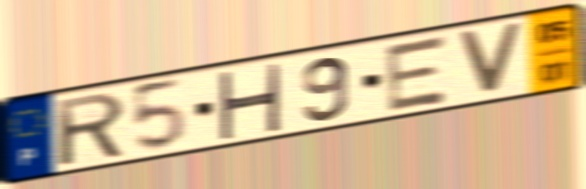5: (129, 73, 191, 155)
9: (301, 55, 351, 122)
E: (383, 32, 452, 115)
H: (214, 62, 284, 141)
R: (53, 89, 128, 169)
V: (453, 21, 527, 97)
